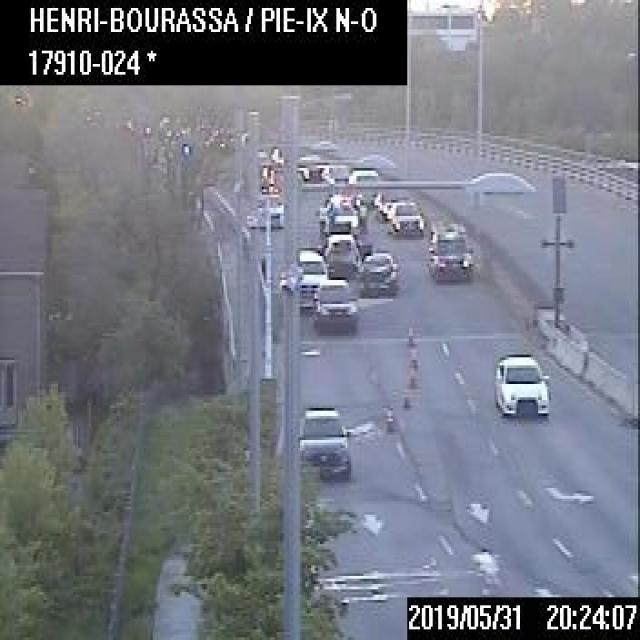vehicle: (298, 403, 349, 477), (493, 352, 547, 419), (280, 248, 326, 307), (311, 278, 356, 334), (428, 230, 471, 280), (320, 231, 360, 274), (356, 251, 396, 294), (386, 199, 423, 232), (246, 194, 284, 226), (348, 166, 380, 203), (324, 201, 357, 230), (296, 152, 320, 180), (319, 161, 349, 183), (267, 189, 269, 192)
